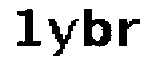1: (12, 5, 42, 52)
b: (78, 5, 112, 48)
r: (115, 15, 145, 51)
y: (47, 13, 78, 60)
